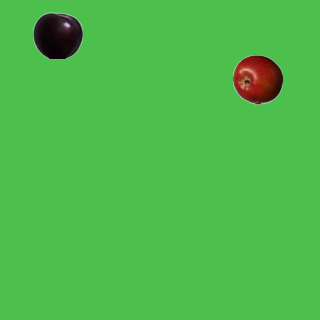Apple Braeburn: (232, 54, 282, 104)
Cherry Wax Black: (32, 10, 82, 60)
